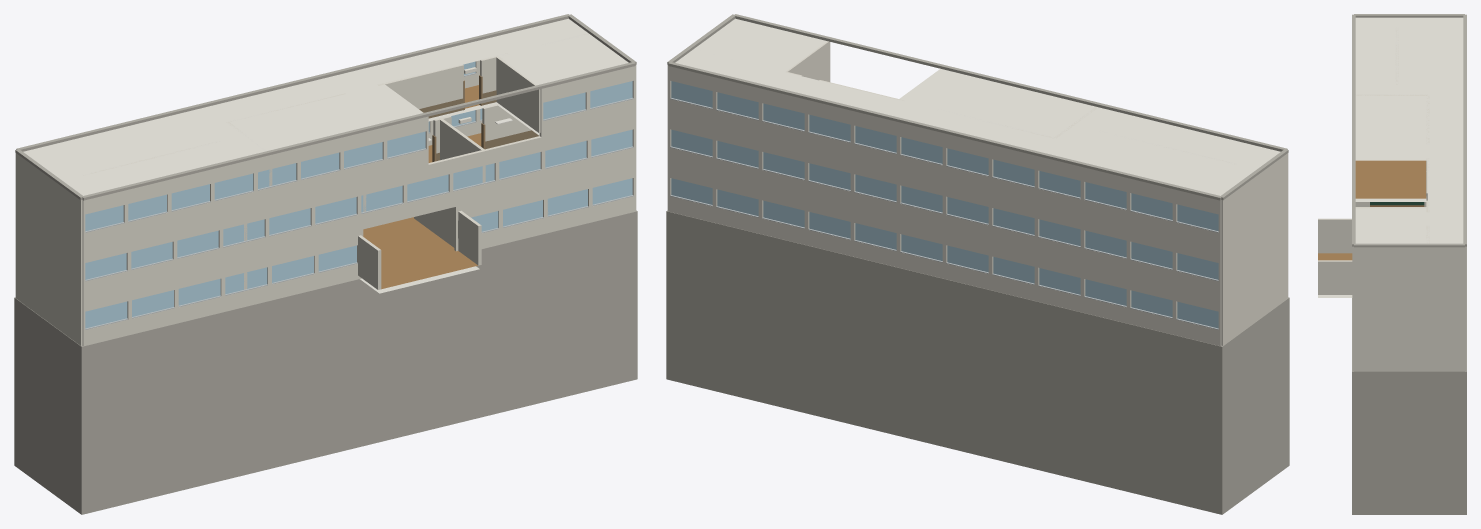
Rendered from school-in.glb.
3 renders of one model, left to right at view 1: azimuth 30°, elevation 25°; view 2: azimuth 150°, elevation 25°; view 3: azimuth 270°, elevation 25°, orthographic. The views are drawn at different scales.
Visible parts, largest first — view 1: school-in; view 2: school-in; view 3: school-in.
Boxes of the visible parts, <box> form: school-in: <box>14,14,637,514</box>; school-in: <box>666,14,1289,514</box>; school-in: <box>1318,14,1466,514</box>.
Size of the model in its own units: 44.3 by 24.1 by 12.05.
